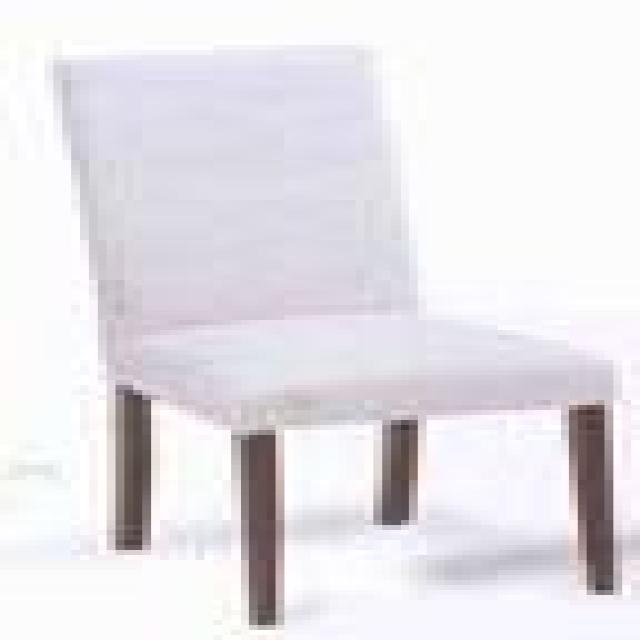chair: (45, 40, 622, 625)
